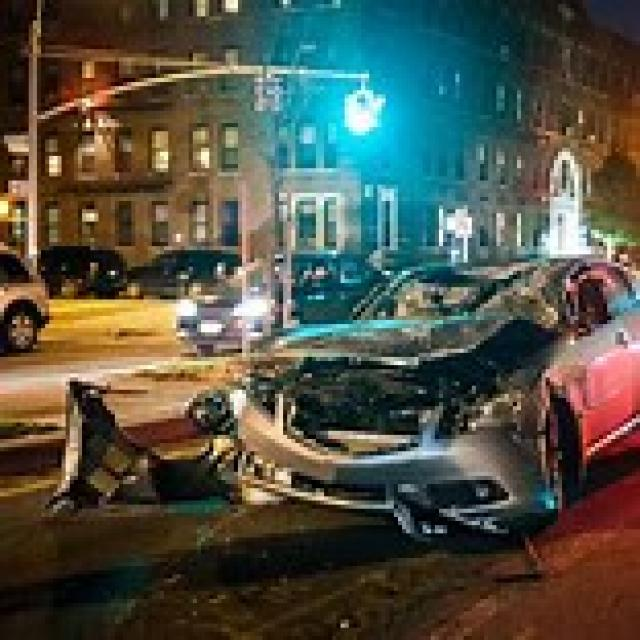Accident: (112, 219, 640, 488)
